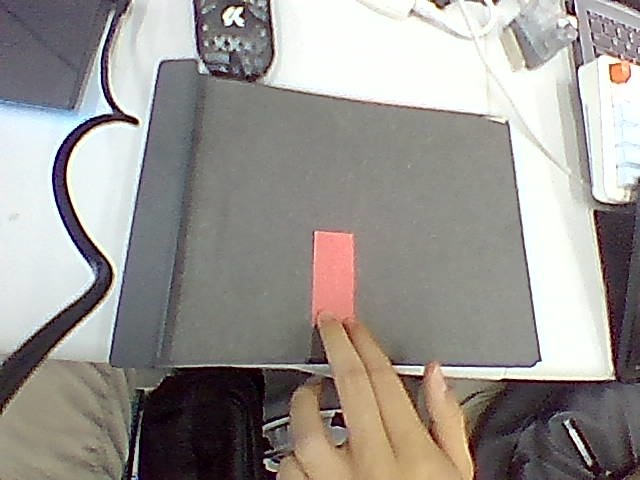card: (312, 231, 354, 324)
